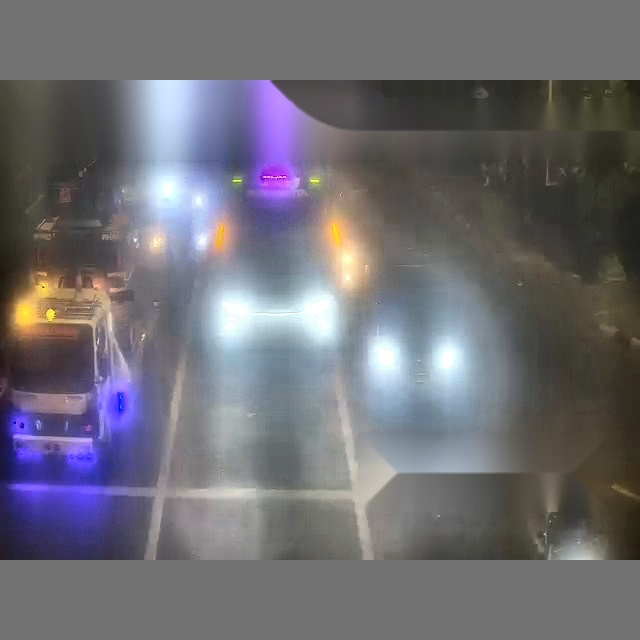Truk: (0, 209, 144, 556)
